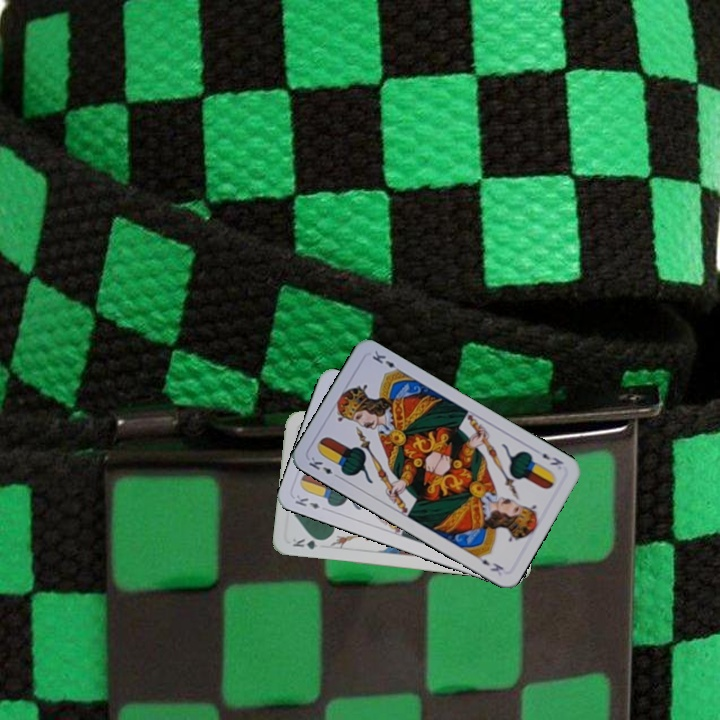EK: (305, 453, 343, 481), (291, 491, 322, 511), (538, 449, 566, 468)
GK: (288, 533, 328, 552)
